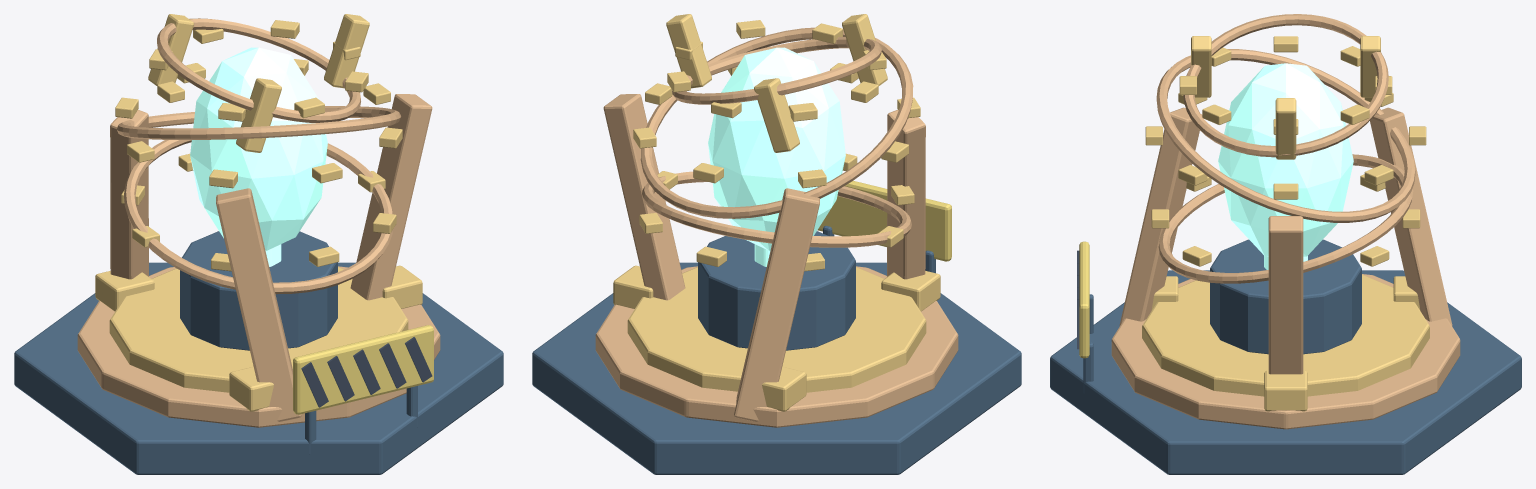
Rendered from sunforge_relay.glb.
3 renders of one model, left to right at view 1: azimuth 30°, elevation 25°; view 2: azimuth 150°, elevation 25°; view 3: azimuth 270°, elevation 25°, orthographic. The views are drawn at different scales.
Visible parts, largest first — view 1: Hexagonal foundation, Suspended sunstone, Solar ceramic upper step, Reactor plinth, Copper lower collar, Radial copper support 2, Radial copper support 0, Yellow engineering service plate, Copper orbital halo 0, Copper orbital halo 1, Radial copper support 1, Copper orbital halo 2 (+11 smaller); view 2: Hexagonal foundation, Solar ceramic upper step, Suspended sunstone, Copper lower collar, Reactor plinth, Radial copper support 1, Radial copper support 0, Copper orbital halo 1, Radial copper support 2, Copper orbital halo 0, Yellow engineering service plate, Copper orbital halo 2 (+6 smaller); view 3: Hexagonal foundation, Solar ceramic upper step, Suspended sunstone, Copper lower collar, Reactor plinth, Copper orbital halo 1, Radial copper support 2, Radial copper support 0, Radial copper support 1, Copper orbital halo 2, Copper orbital halo 0, Luminous service pedestal 0 (+6 smaller).
Part boxes in pixels (x1=…): Hexagonal foundation: x1=14, y1=262, x2=503, y2=474; Suspended sunstone: x1=190, y1=47, x2=327, y2=250; Solar ceramic upper step: x1=109, y1=267, x2=408, y2=392; Reactor plinth: x1=180, y1=231, x2=337, y2=350; Copper lower collar: x1=77, y1=266, x2=440, y2=427; Radial copper support 2: x1=216, y1=188, x2=301, y2=421; Radial copper support 0: x1=350, y1=94, x2=432, y2=300; Yellow engineering service plate: x1=293, y1=325, x2=433, y2=414; Copper orbital halo 0: x1=124, y1=140, x2=393, y2=294; Copper orbital halo 1: x1=116, y1=106, x2=401, y2=139; Radial copper support 1: x1=110, y1=109, x2=148, y2=279; Copper orbital halo 2: x1=157, y1=18, x2=360, y2=122; Hexagonal foundation: x1=532, y1=262, x2=1021, y2=474; Solar ceramic upper step: x1=627, y1=267, x2=926, y2=392; Suspended sunstone: x1=708, y1=47, x2=845, y2=250; Copper lower collar: x1=595, y1=266, x2=958, y2=427; Reactor plinth: x1=698, y1=231, x2=855, y2=350; Radial copper support 1: x1=734, y1=188, x2=819, y2=421; Radial copper support 0: x1=603, y1=94, x2=685, y2=300; Copper orbital halo 1: x1=640, y1=27, x2=913, y2=218; Radial copper support 2: x1=887, y1=109, x2=925, y2=279; Copper orbital halo 0: x1=642, y1=171, x2=911, y2=247; Yellow engineering service plate: x1=817, y1=180, x2=951, y2=261; Copper orbital halo 2: x1=672, y1=37, x2=881, y2=104; Hexagonal foundation: x1=1050, y1=270, x2=1521, y2=474; Solar ceramic upper step: x1=1142, y1=274, x2=1429, y2=396; Suspended sunstone: x1=1218, y1=63, x2=1353, y2=256; Copper lower collar: x1=1111, y1=274, x2=1460, y2=429; Reactor plinth: x1=1210, y1=239, x2=1361, y2=354; Copper orbital halo 1: x1=1156, y1=49, x2=1415, y2=222; Radial copper support 2: x1=1119, y1=107, x2=1202, y2=325; Radial copper support 0: x1=1268, y1=216, x2=1303, y2=374; Radial copper support 1: x1=1370, y1=107, x2=1452, y2=325; Copper orbital halo 2: x1=1183, y1=14, x2=1388, y2=157; Copper orbital halo 0: x1=1158, y1=154, x2=1413, y2=283; Luminous service pedestal 0: x1=1264, y1=370, x2=1307, y2=411.
Size of the model in its own units: 3.98 by 3.61 by 4.59.
